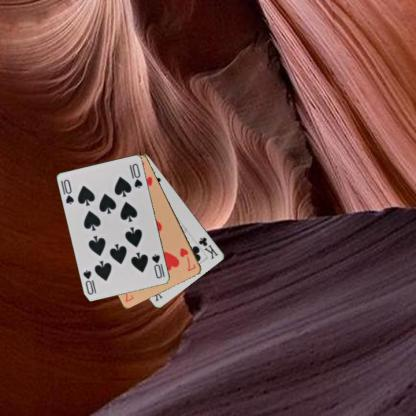10s: (149, 251, 166, 280), (61, 176, 75, 206)
7h: (178, 245, 198, 273)
Kc: (196, 235, 219, 260)
